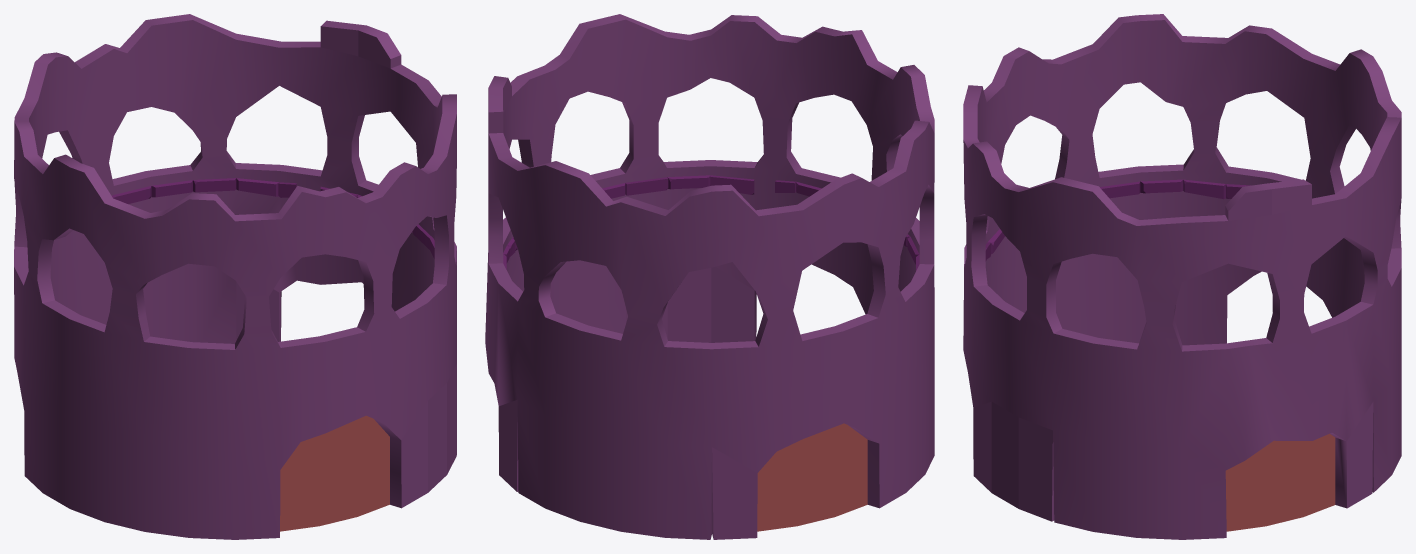
The model's file is interior_walls.fbx.
3 renders of one model, left to right at view 1: azimuth 30°, elevation 25°; view 2: azimuth 150°, elevation 25°; view 3: azimuth 270°, elevation 25°, orthographic.
Parts seen in each view (by area): view 1: interior_walls_mesh; view 2: interior_walls_mesh; view 3: interior_walls_mesh.
Part boxes in pixels (bbox=[...]): interior_walls_mesh: bbox=[14, 14, 456, 539]; interior_walls_mesh: bbox=[485, 14, 934, 539]; interior_walls_mesh: bbox=[963, 14, 1401, 539].
Size of the model in its own units: 12.07 by 10.33 by 11.95.
